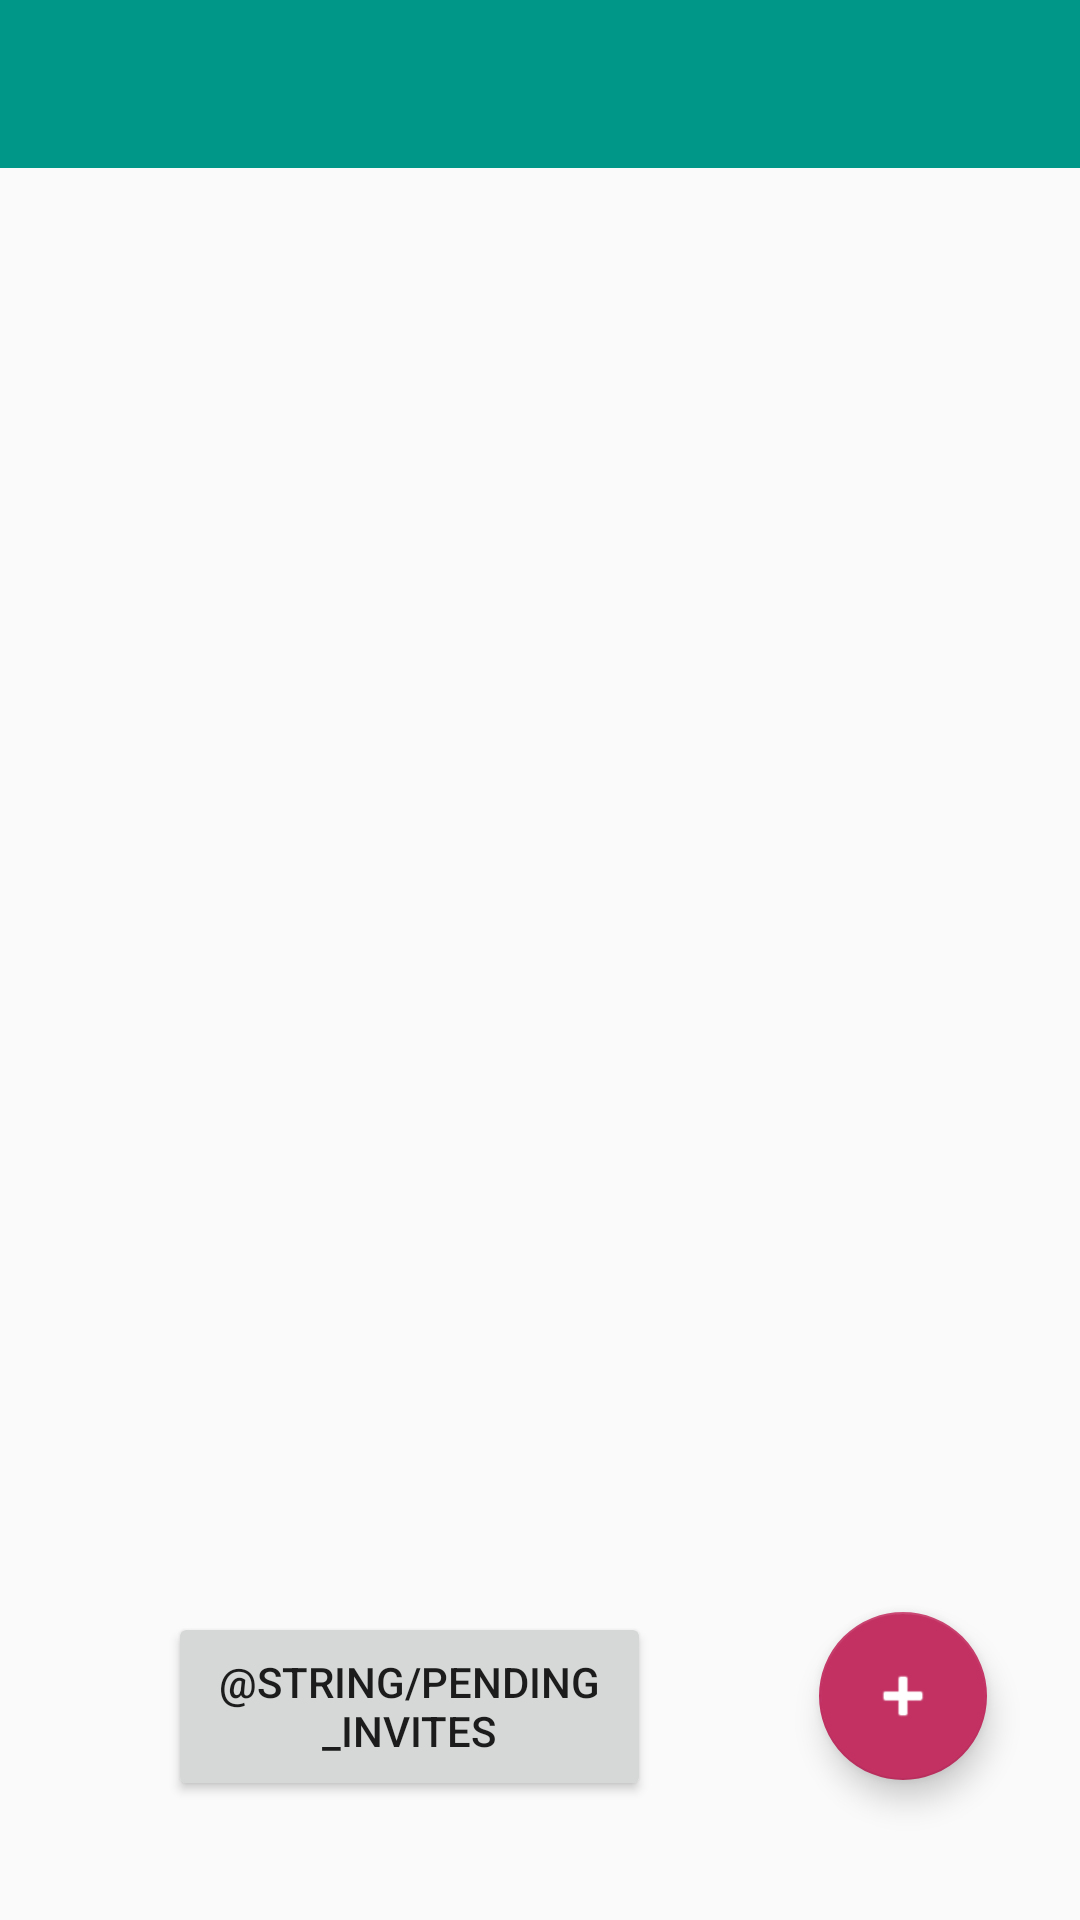

Locate icon controls on the screen. Image size 1080x1920, boxes as (x1, y1, x2, y2).
add: (819, 1612, 987, 1780)
